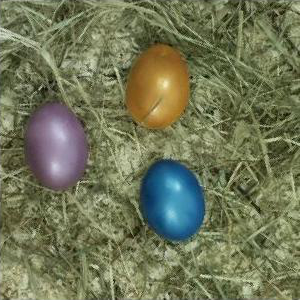egg: (127, 45, 191, 131), (25, 104, 89, 189), (141, 160, 206, 240)
